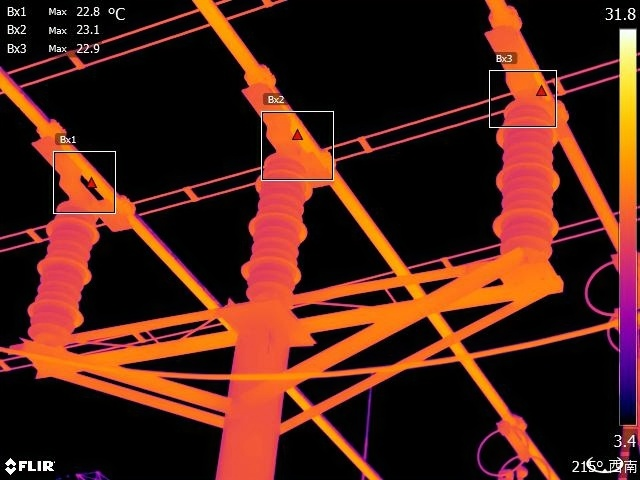post insulator: (489, 91, 566, 251), (238, 143, 313, 299), (25, 196, 102, 337)
